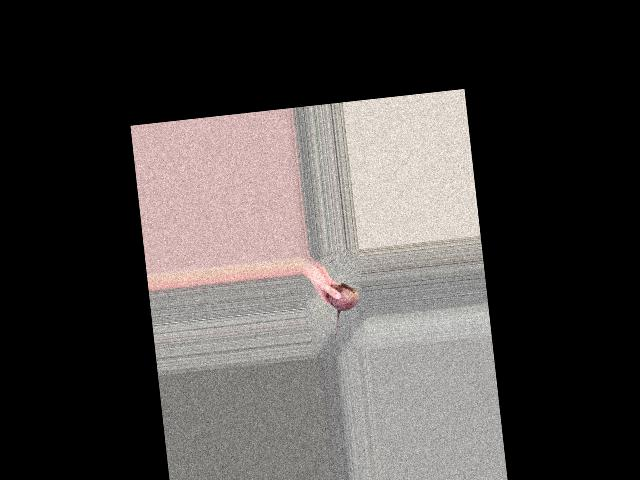beet: (327, 281, 363, 339)
